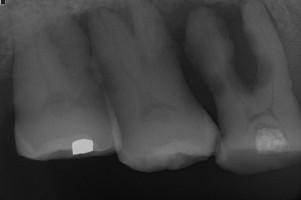Dental Caries: (152, 0, 261, 97), (73, 0, 135, 57)
